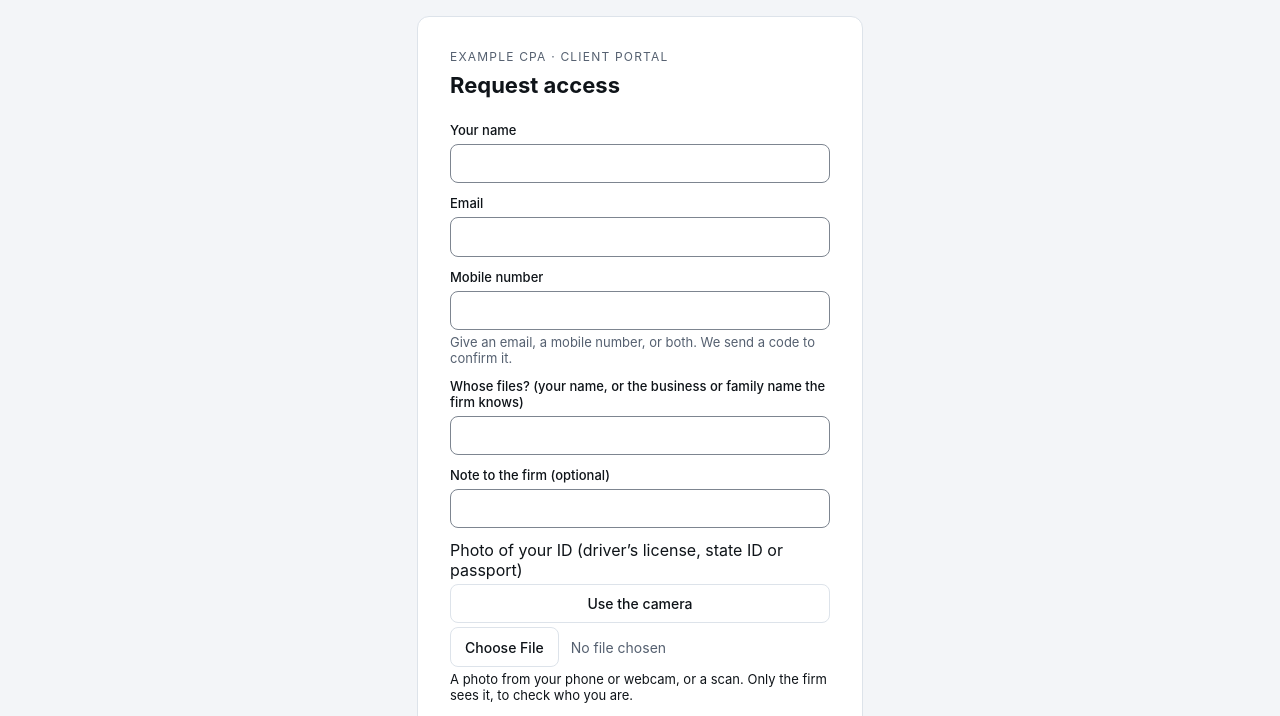
Test: request page: a webcam on a computer › on a phone the wording and the phone-camera buttons stay
The width and height of the screenshot is (1280, 716).
Click the button with aria-label "Use the camera: Photo of your ID": [640, 604] box x1=450 y1=584 x2=830 y2=623
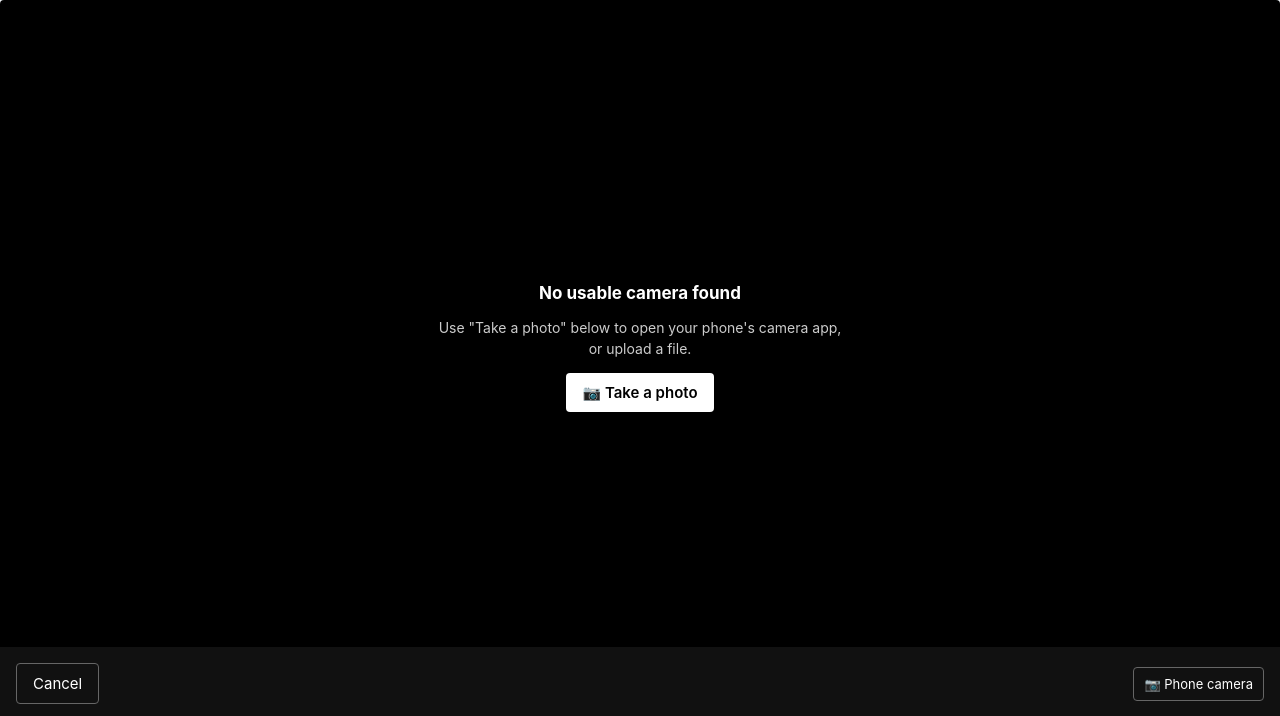
Check: the text "No usable camera found" is shown, box x1=539 y1=283 x2=741 y2=303
Check: the button "📷 Take a photo" is shown, box x1=566 y1=373 x2=714 y2=412
Check: the button "📷 Phone camera" is shown, box x1=1133 y1=666 x2=1264 y2=700
